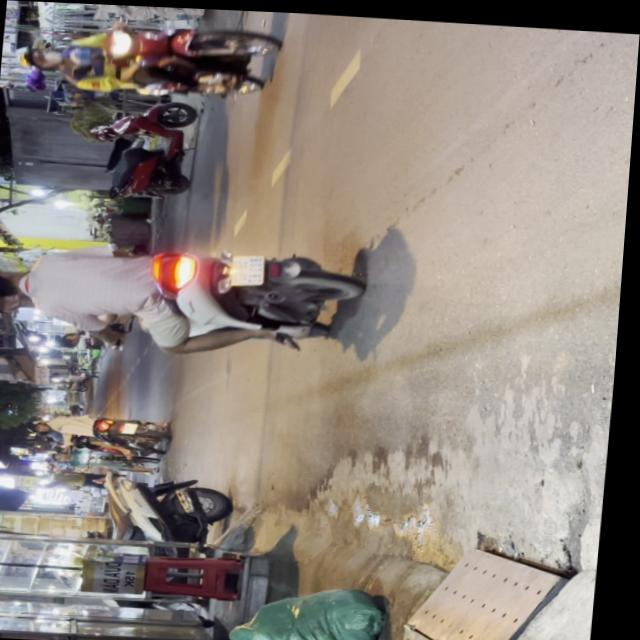helmet: (14, 43, 63, 70)
licenseplate: (0, 228, 363, 361), (9, 9, 283, 102)
motorcyclist: (0, 266, 32, 300)
nohelmet: (231, 251, 267, 283)
